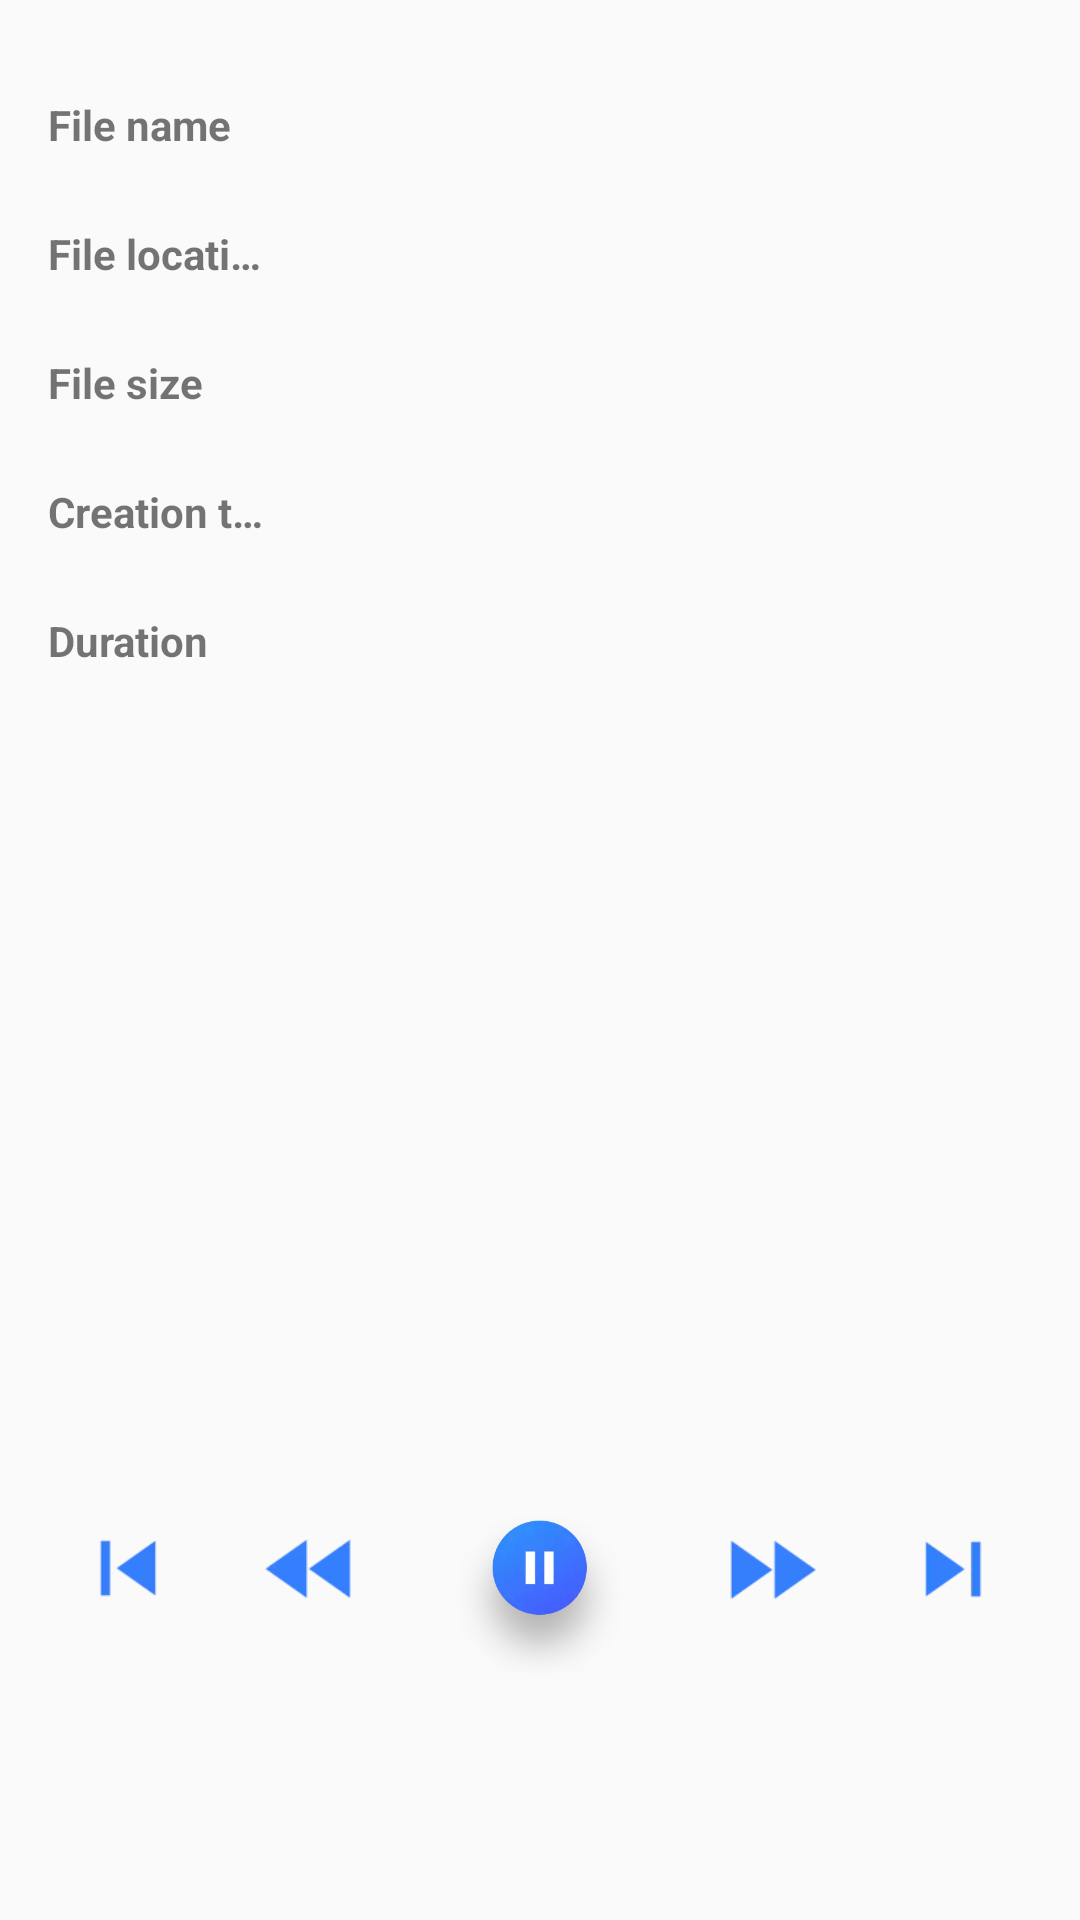

Where icons sit on this 1080w x 1920h app screen, as (x1, y1, x2, y2):
play next: (730, 1541, 816, 1599), (925, 1541, 981, 1597)
play pause: (488, 1520, 592, 1649)
play prev: (100, 1540, 156, 1596), (266, 1540, 351, 1598)
